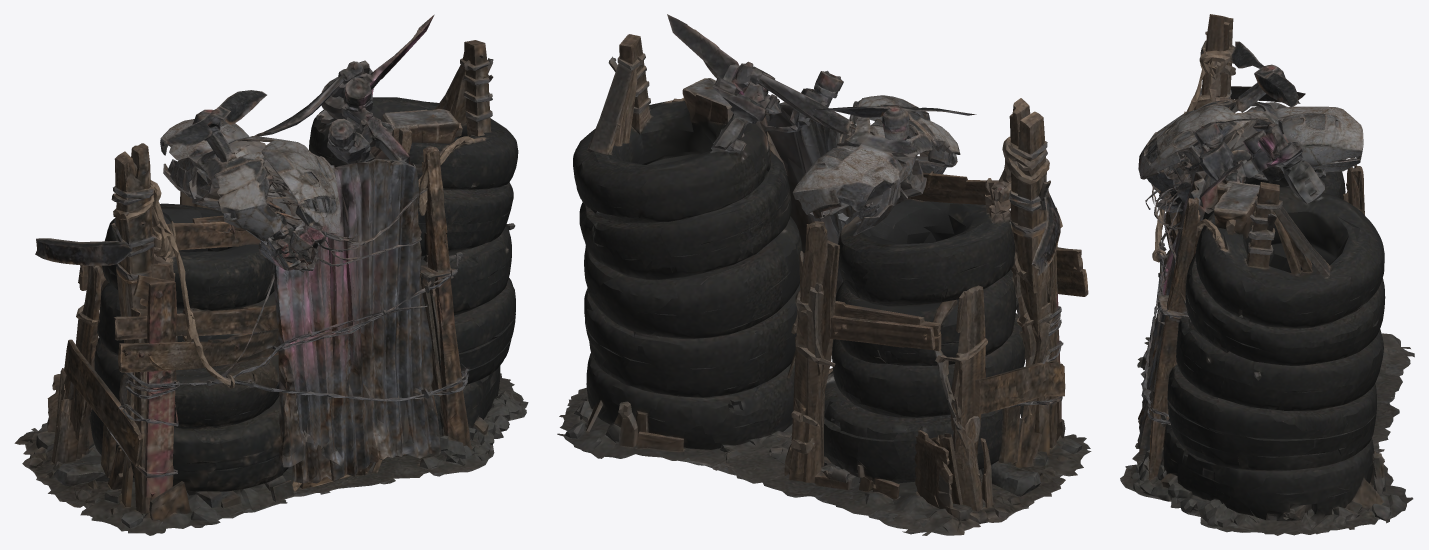
Rendered from barricade.glb.
The picture shows the model from 3 angles, left to right: view 1: azimuth 30°, elevation 25°; view 2: azimuth 150°, elevation 25°; view 3: azimuth 270°, elevation 25°; orthographic projection. The views are drawn at different scales.
Parts seen in each view (by area): view 1: output_unwrapped; view 2: output_unwrapped; view 3: output_unwrapped.
Boxes of the visible parts, x1=… form: output_unwrapped: x1=14, y1=14, x2=528, y2=535; output_unwrapped: x1=557, y1=14, x2=1091, y2=535; output_unwrapped: x1=1120, y1=14, x2=1414, y2=535.
Size of the model in its own units: 1.9 by 1.53 by 1.1.
1 material, 1 textured.
